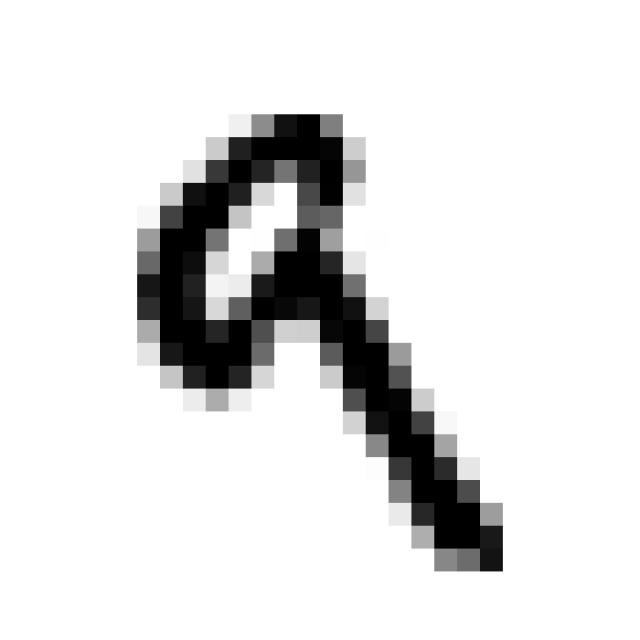9 -nine-: (110, 80, 519, 586)
